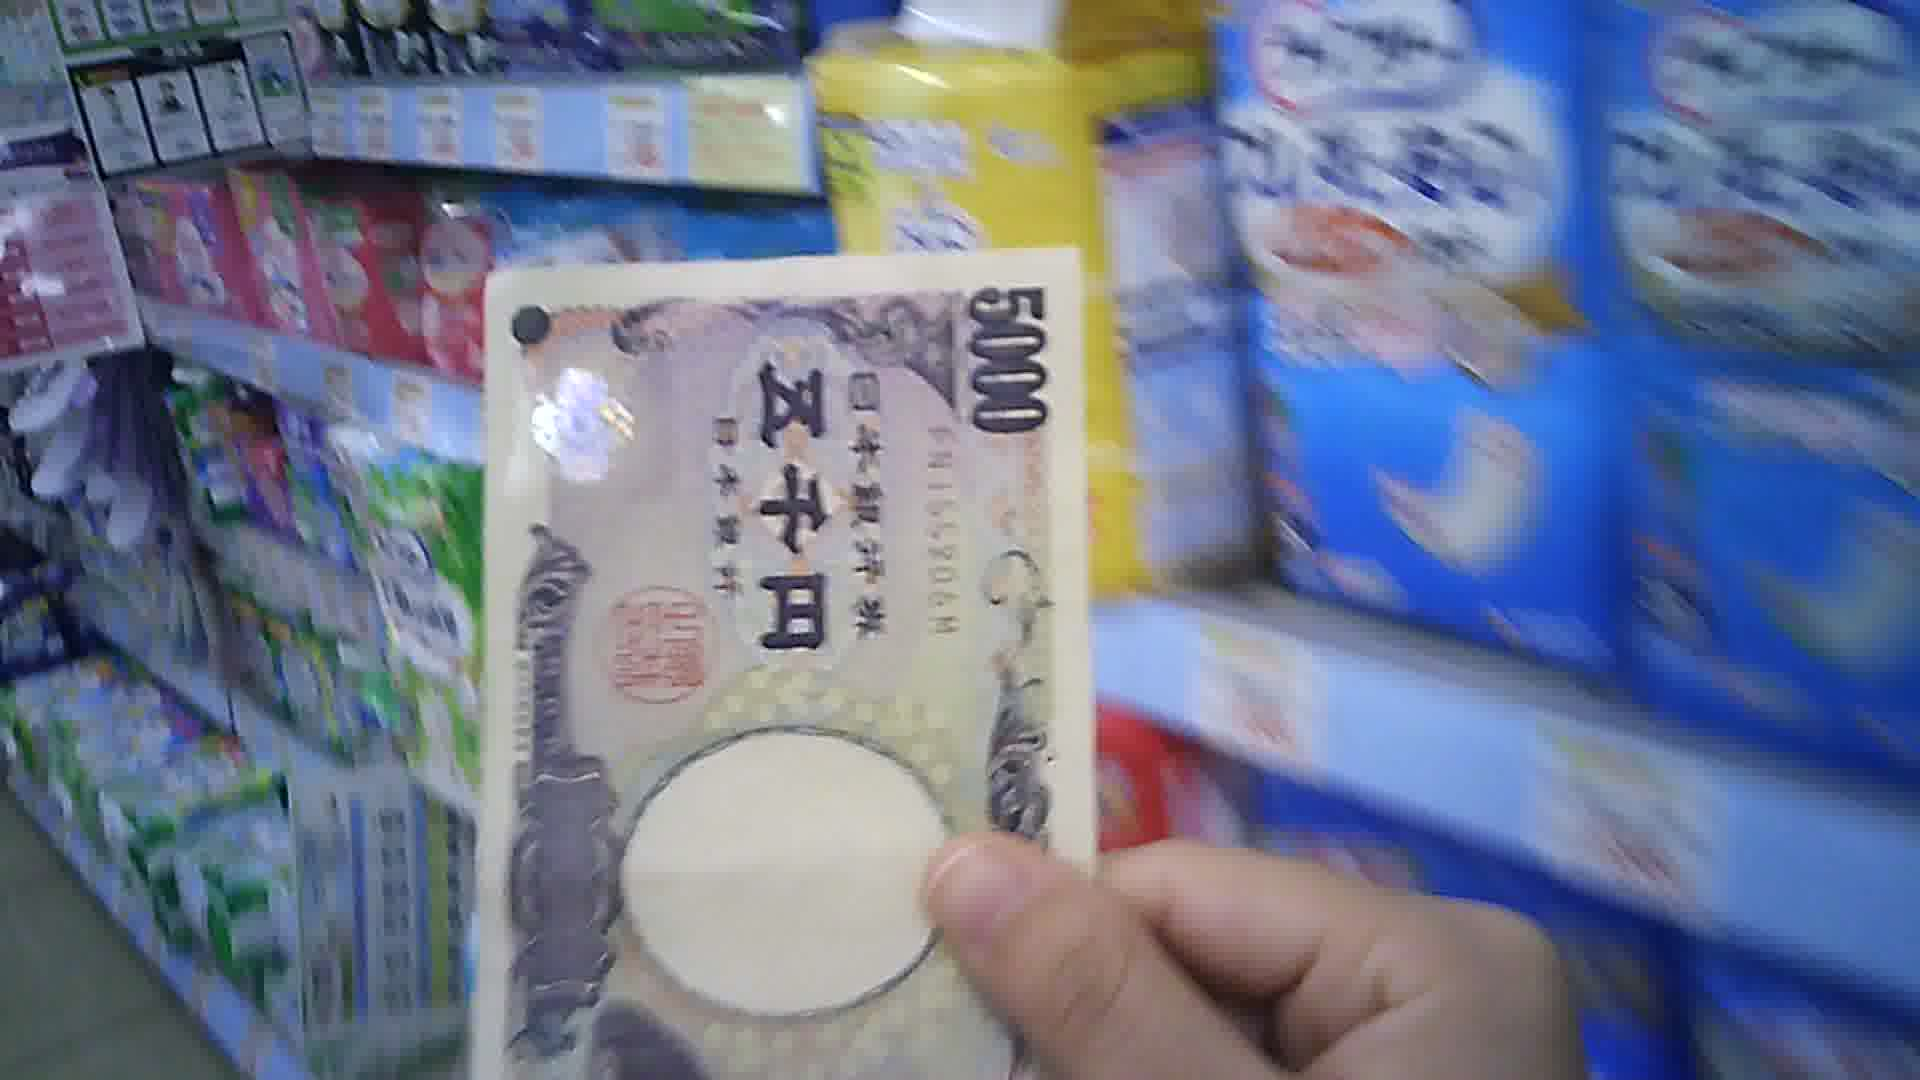5,000 Yen: (462, 227, 1113, 1079)
